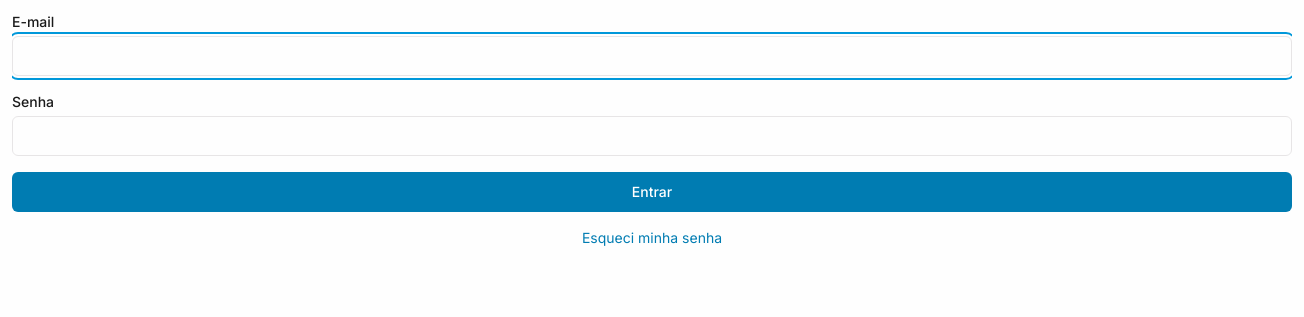
Test: LoginForm › mostra mensagem genérica quando a credencial está errada
Type "alice@ibpi.com.br" into the field labelled "E-mail" at coordinates (652, 56), box [12, 36, 1292, 76]
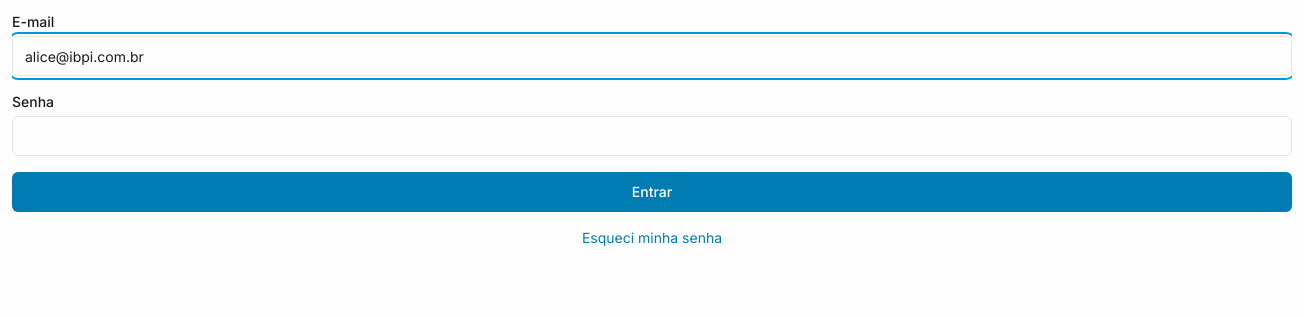
Type "senha-errada" into the password field labelled "Senha" at coordinates (652, 136), box [12, 116, 1292, 156]
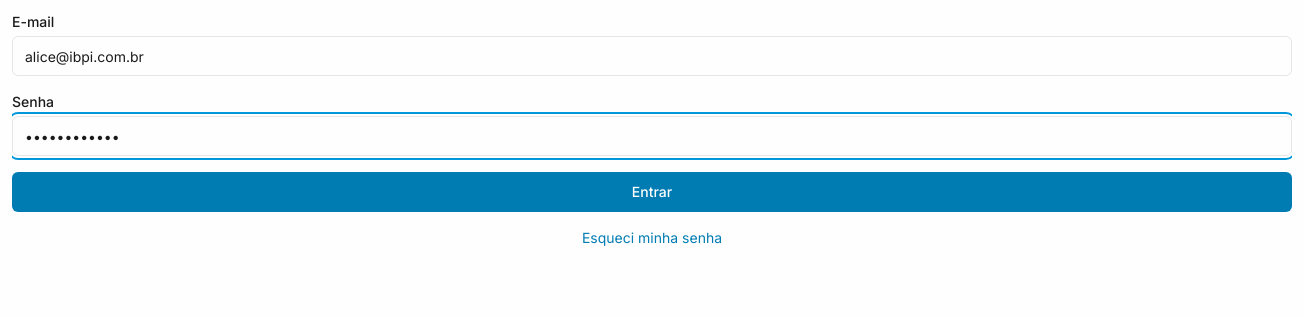
Click the button "Entrar" at coordinates (652, 192), box [12, 172, 1292, 212]
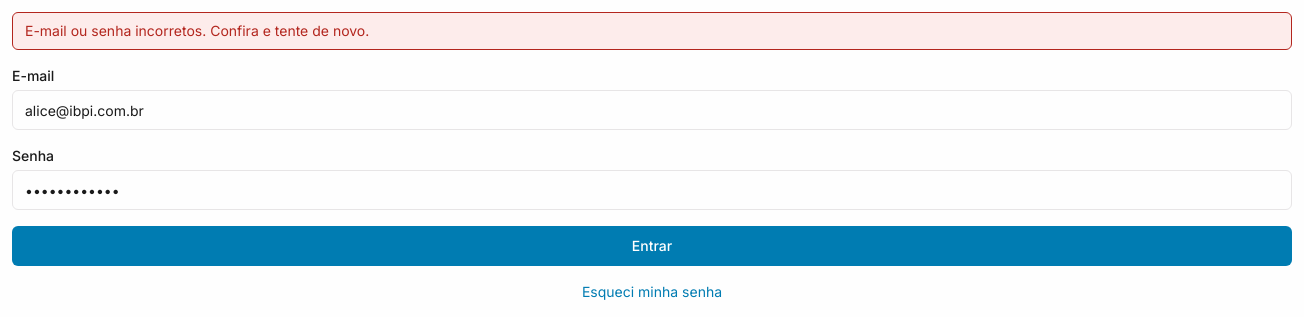
Check: the message shows "E-mail ou senha incorretos", box [25, 22, 369, 39]
